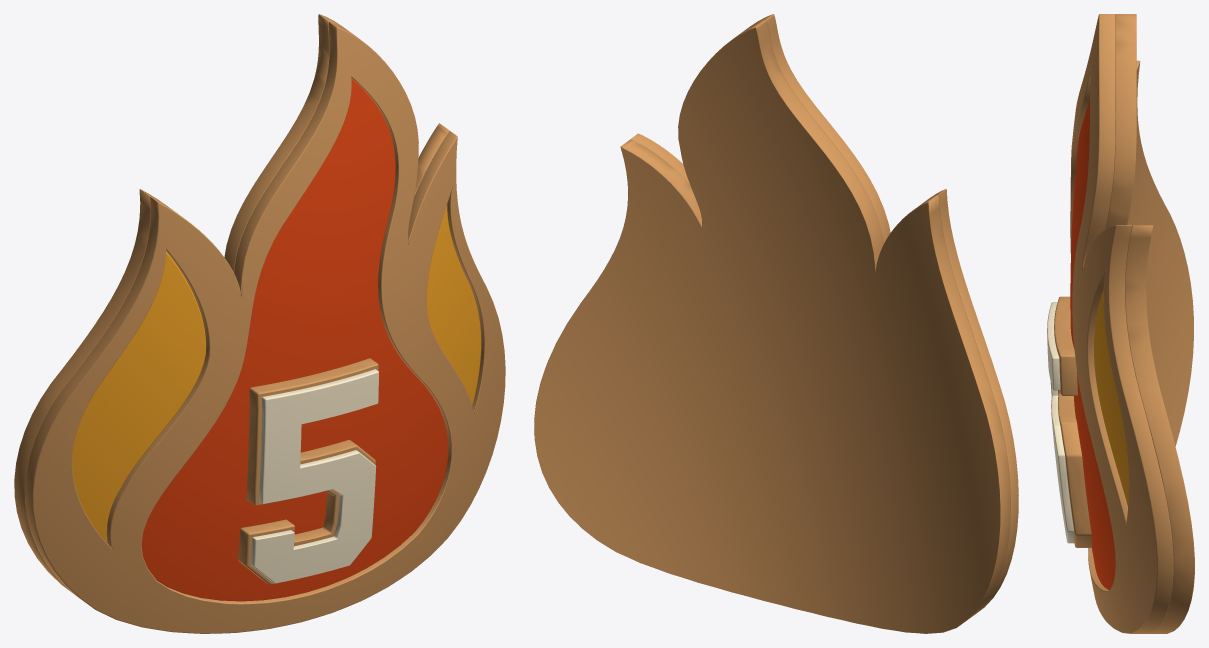
File: streak-5.glb
The picture shows the model from 3 angles, left to right: view 1: azimuth 30°, elevation 25°; view 2: azimuth 150°, elevation 25°; view 3: azimuth 270°, elevation 25°; orthographic projection. The views are drawn at different scales.
Visible parts, largest first — view 1: metal_flame_chassis_conforming_002, acrylic_center_cell_conforming_002, acrylic_left_cell_conforming_002, ivory_number_5_0_0_conforming, satin_flame_reverse_conforming_002, metal_number_5_0_0_conforming, acrylic_right_cell_conforming_002; view 2: satin_flame_reverse_conforming_002, metal_flame_chassis_conforming_002; view 3: metal_flame_chassis_conforming_002, satin_flame_reverse_conforming_002, acrylic_center_cell_conforming_002, metal_number_5_0_0_conforming, acrylic_right_cell_conforming_002, ivory_number_5_0_0_conforming.
Boxes of the visible parts, x1=… form: metal_flame_chassis_conforming_002: x1=25, y1=21, x2=505, y2=633; acrylic_center_cell_conforming_002: x1=141, y1=78, x2=448, y2=601; acrylic_left_cell_conforming_002: x1=72, y1=251, x2=206, y2=542; ivory_number_5_0_0_conforming: x1=250, y1=369, x2=378, y2=583; satin_flame_reverse_conforming_002: x1=14, y1=14, x2=449, y2=592; metal_number_5_0_0_conforming: x1=238, y1=358, x2=378, y2=584; acrylic_right_cell_conforming_002: x1=426, y1=204, x2=481, y2=404; satin_flame_reverse_conforming_002: x1=534, y1=20, x2=1010, y2=633; metal_flame_chassis_conforming_002: x1=631, y1=14, x2=1018, y2=614; metal_flame_chassis_conforming_002: x1=1070, y1=14, x2=1173, y2=633; satin_flame_reverse_conforming_002: x1=1105, y1=14, x2=1194, y2=633; acrylic_center_cell_conforming_002: x1=1070, y1=99, x2=1115, y2=589; metal_number_5_0_0_conforming: x1=1054, y1=296, x2=1091, y2=547; acrylic_right_cell_conforming_002: x1=1094, y1=289, x2=1128, y2=506; ivory_number_5_0_0_conforming: x1=1047, y1=302, x2=1074, y2=543.
Size of the model in its own units: 1.79 by 2.11 by 0.4798.
